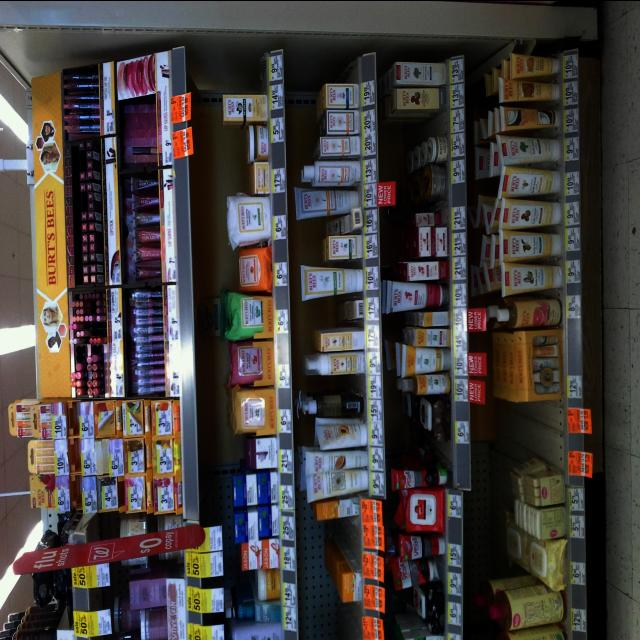empty_space: (497, 402, 565, 453), (335, 603, 361, 640), (336, 518, 358, 543)
